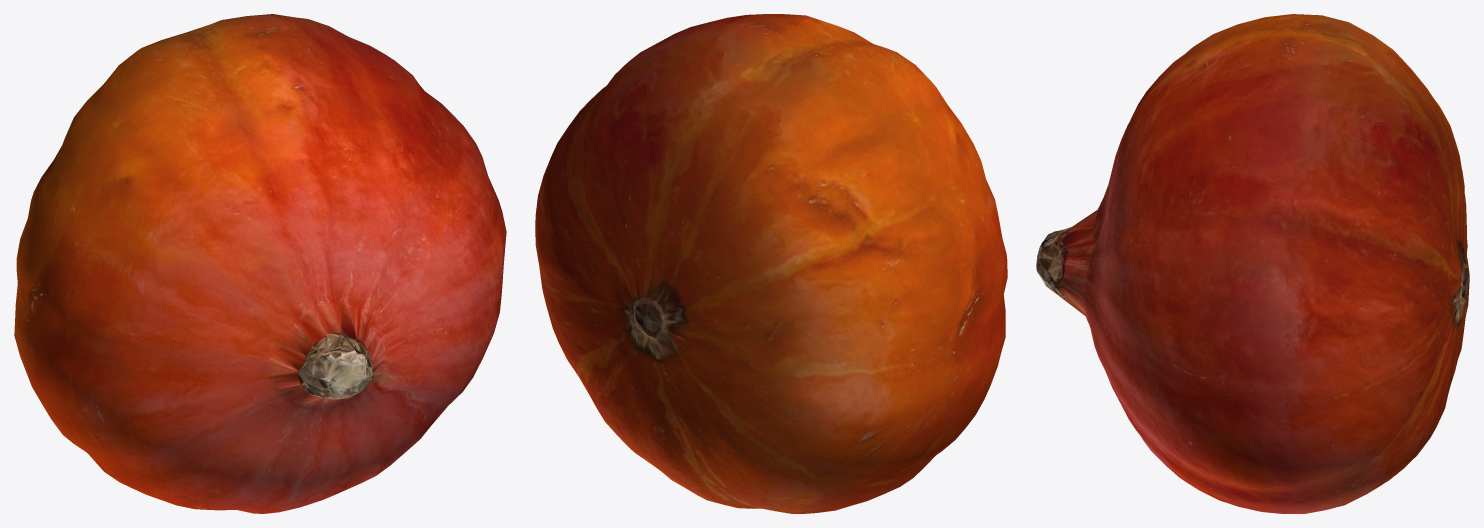
3 views of the same model, side by side, from view 1: azimuth 30°, elevation 25°; view 2: azimuth 150°, elevation 25°; view 3: azimuth 270°, elevation 25° (orthographic). The views are drawn at different scales.
Parts seen in each view (by area): view 1: pomegranate; view 2: pomegranate; view 3: pomegranate.
Boxes of the visible parts, x1,y1,x2,y2 form: pomegranate: (14,14,506,513); pomegranate: (535,14,1007,513); pomegranate: (1036,14,1469,513).
Size of the model in its own units: 0.1525 by 0.1362 by 0.1573.
Materials: 1 (1 with a texture image).
